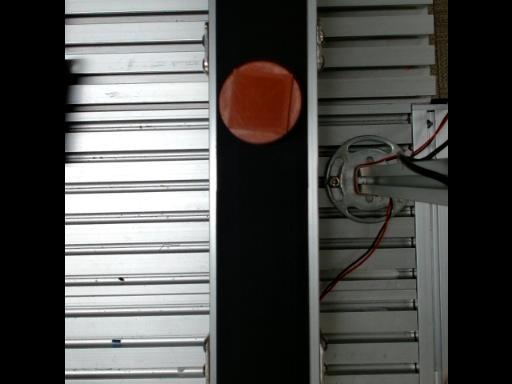Brown_Waper: (218, 62, 300, 144)
Square: (227, 69, 293, 134)
